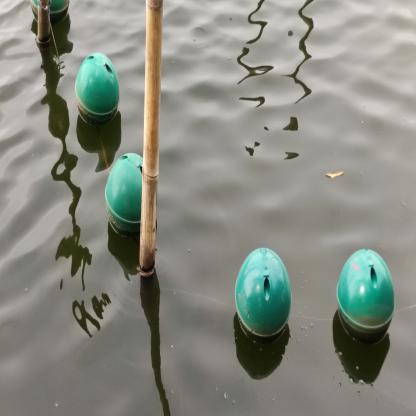green_buoy: (334, 246, 396, 350), (233, 243, 292, 346), (74, 50, 121, 127), (104, 152, 144, 238), (29, 0, 71, 25)
